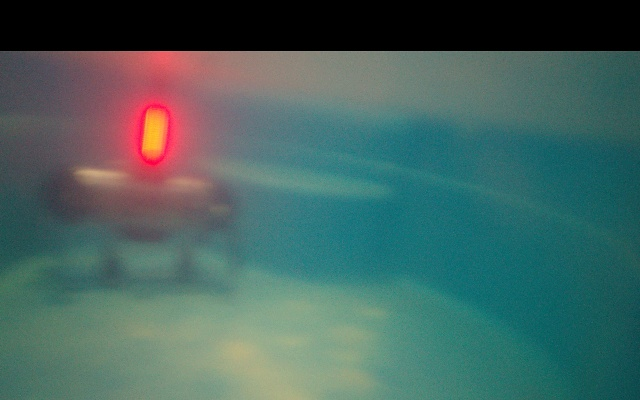red: (142, 110, 168, 167)
